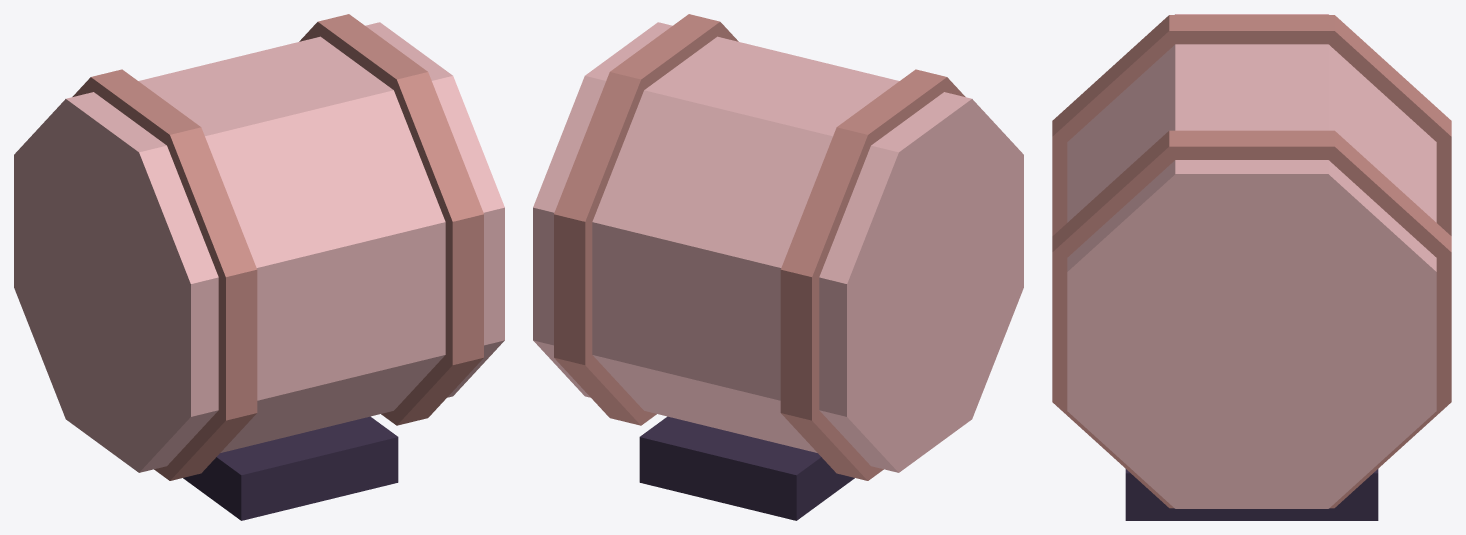
The model's file is base_tunnel.obj.
3 renders of one model, left to right at view 1: azimuth 30°, elevation 25°; view 2: azimuth 150°, elevation 25°; view 3: azimuth 270°, elevation 25°, orthographic. The views are drawn at different scales.
Parts seen in each view (by area): view 1: base_tunnel_pale_pink, base_tunnel_dusty_rose, base_tunnel_deep_purple; view 2: base_tunnel_pale_pink, base_tunnel_dusty_rose, base_tunnel_deep_purple; view 3: base_tunnel_pale_pink, base_tunnel_dusty_rose, base_tunnel_deep_purple.
Part boxes in pixels (left/top/right/bottom): base_tunnel_pale_pink: left=14, top=22, right=504, bottom=472; base_tunnel_dusty_rose: left=72, top=14, right=483, bottom=480; base_tunnel_deep_purple: left=183, top=416, right=398, bottom=520; base_tunnel_pale_pink: left=533, top=22, right=1023, bottom=472; base_tunnel_dusty_rose: left=554, top=14, right=965, bottom=480; base_tunnel_deep_purple: left=639, top=416, right=854, bottom=520; base_tunnel_pale_pink: left=1067, top=14, right=1436, bottom=508; base_tunnel_dusty_rose: left=1052, top=15, right=1451, bottom=508; base_tunnel_deep_purple: left=1125, top=469, right=1378, bottom=520.
Bounding box in the file's own units: 1.8 × 2.1 × 1.9.
